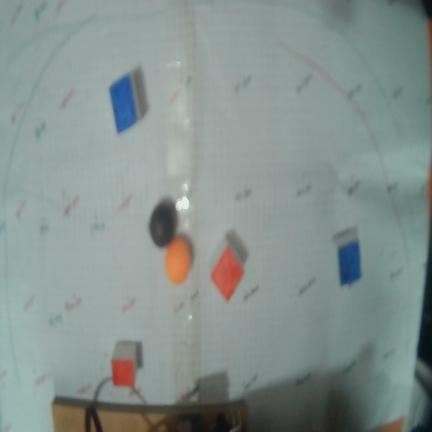circle_blue: (150, 198, 177, 247)
circle_orange: (165, 236, 191, 284)
rectangle_blue: (110, 74, 137, 133)
rectangle_orange: (112, 357, 136, 387)
square_blue: (338, 241, 360, 285)
square_orange: (211, 244, 244, 301)
